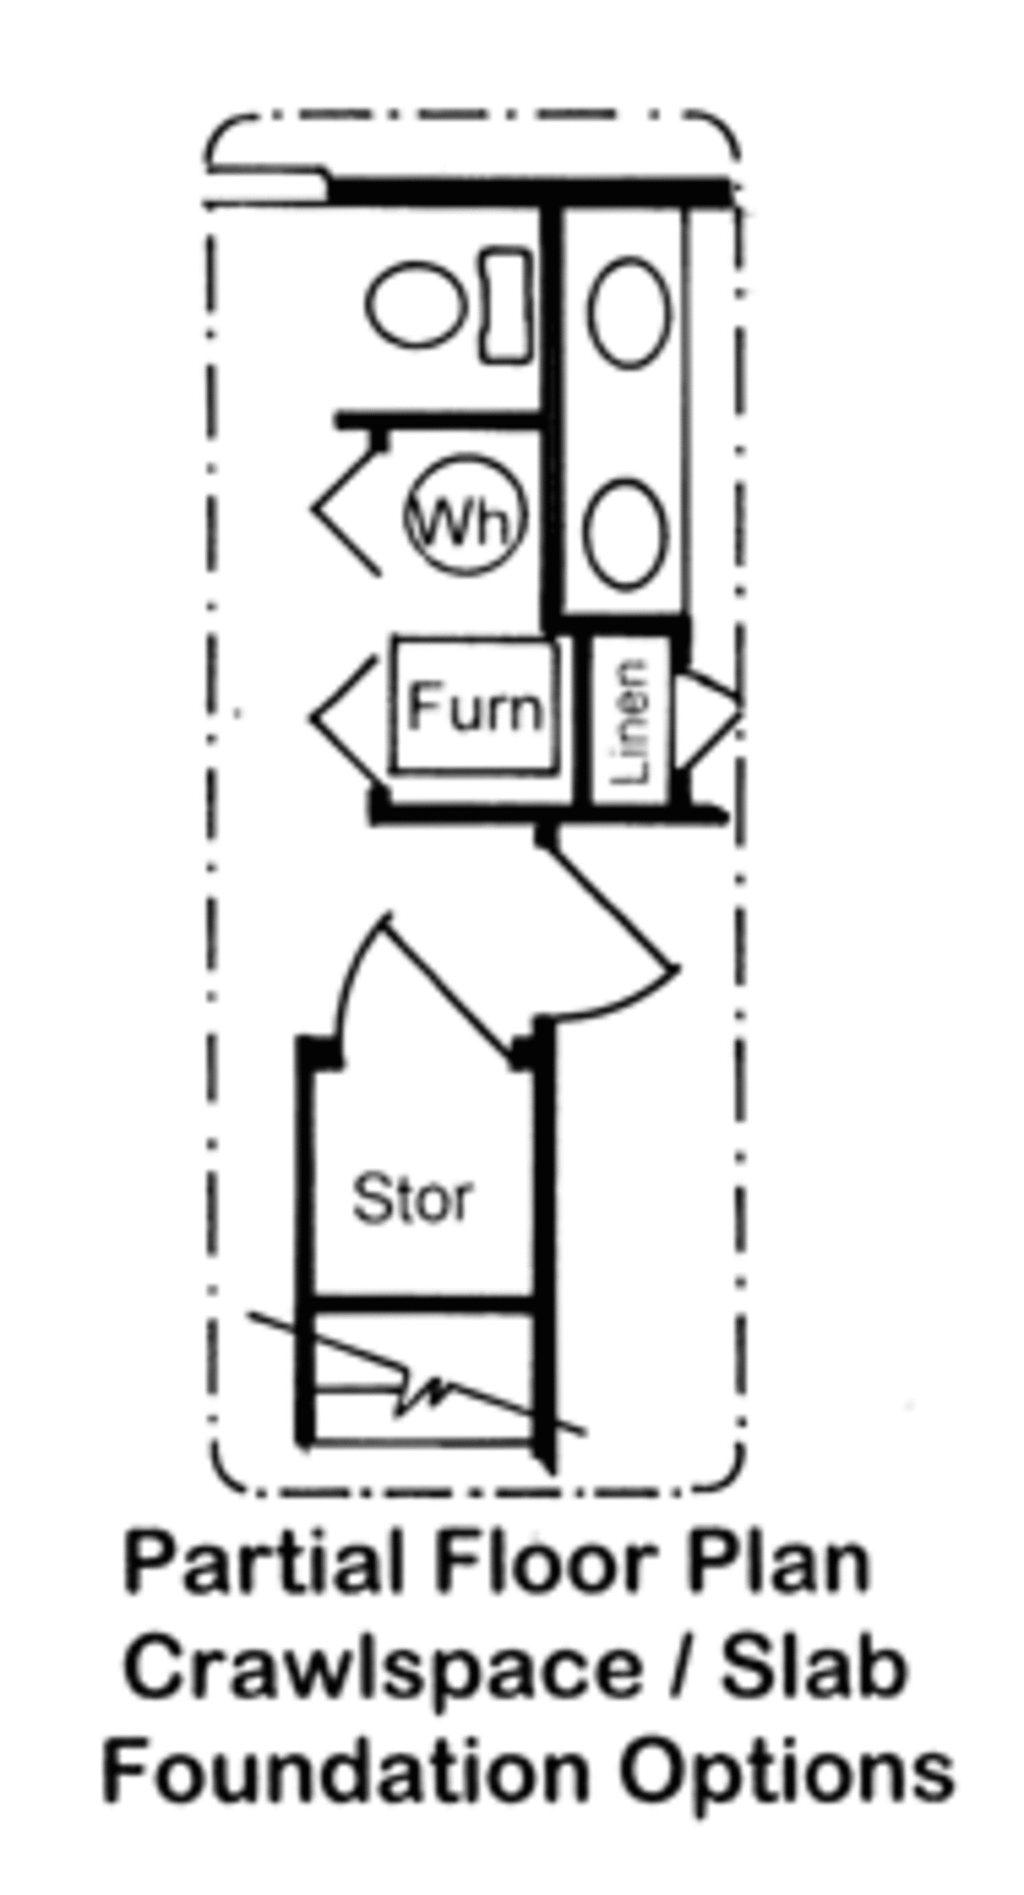door: (538, 837, 691, 1049), (329, 919, 523, 1078)
large_sink: (361, 222, 526, 414)
small_sink: (588, 216, 667, 611)
